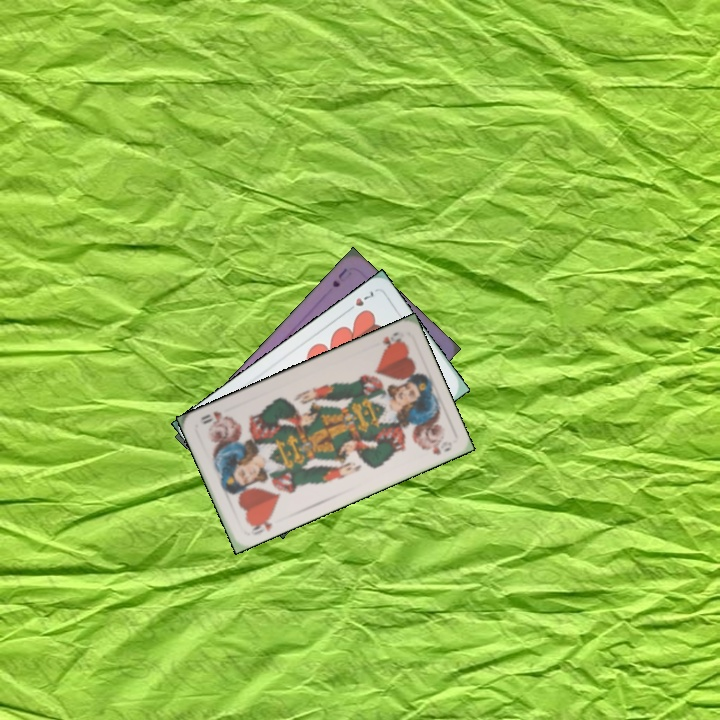H7: (342, 286, 378, 315)
HO: (246, 511, 275, 538), (378, 328, 407, 352)
SU: (328, 264, 350, 290)
